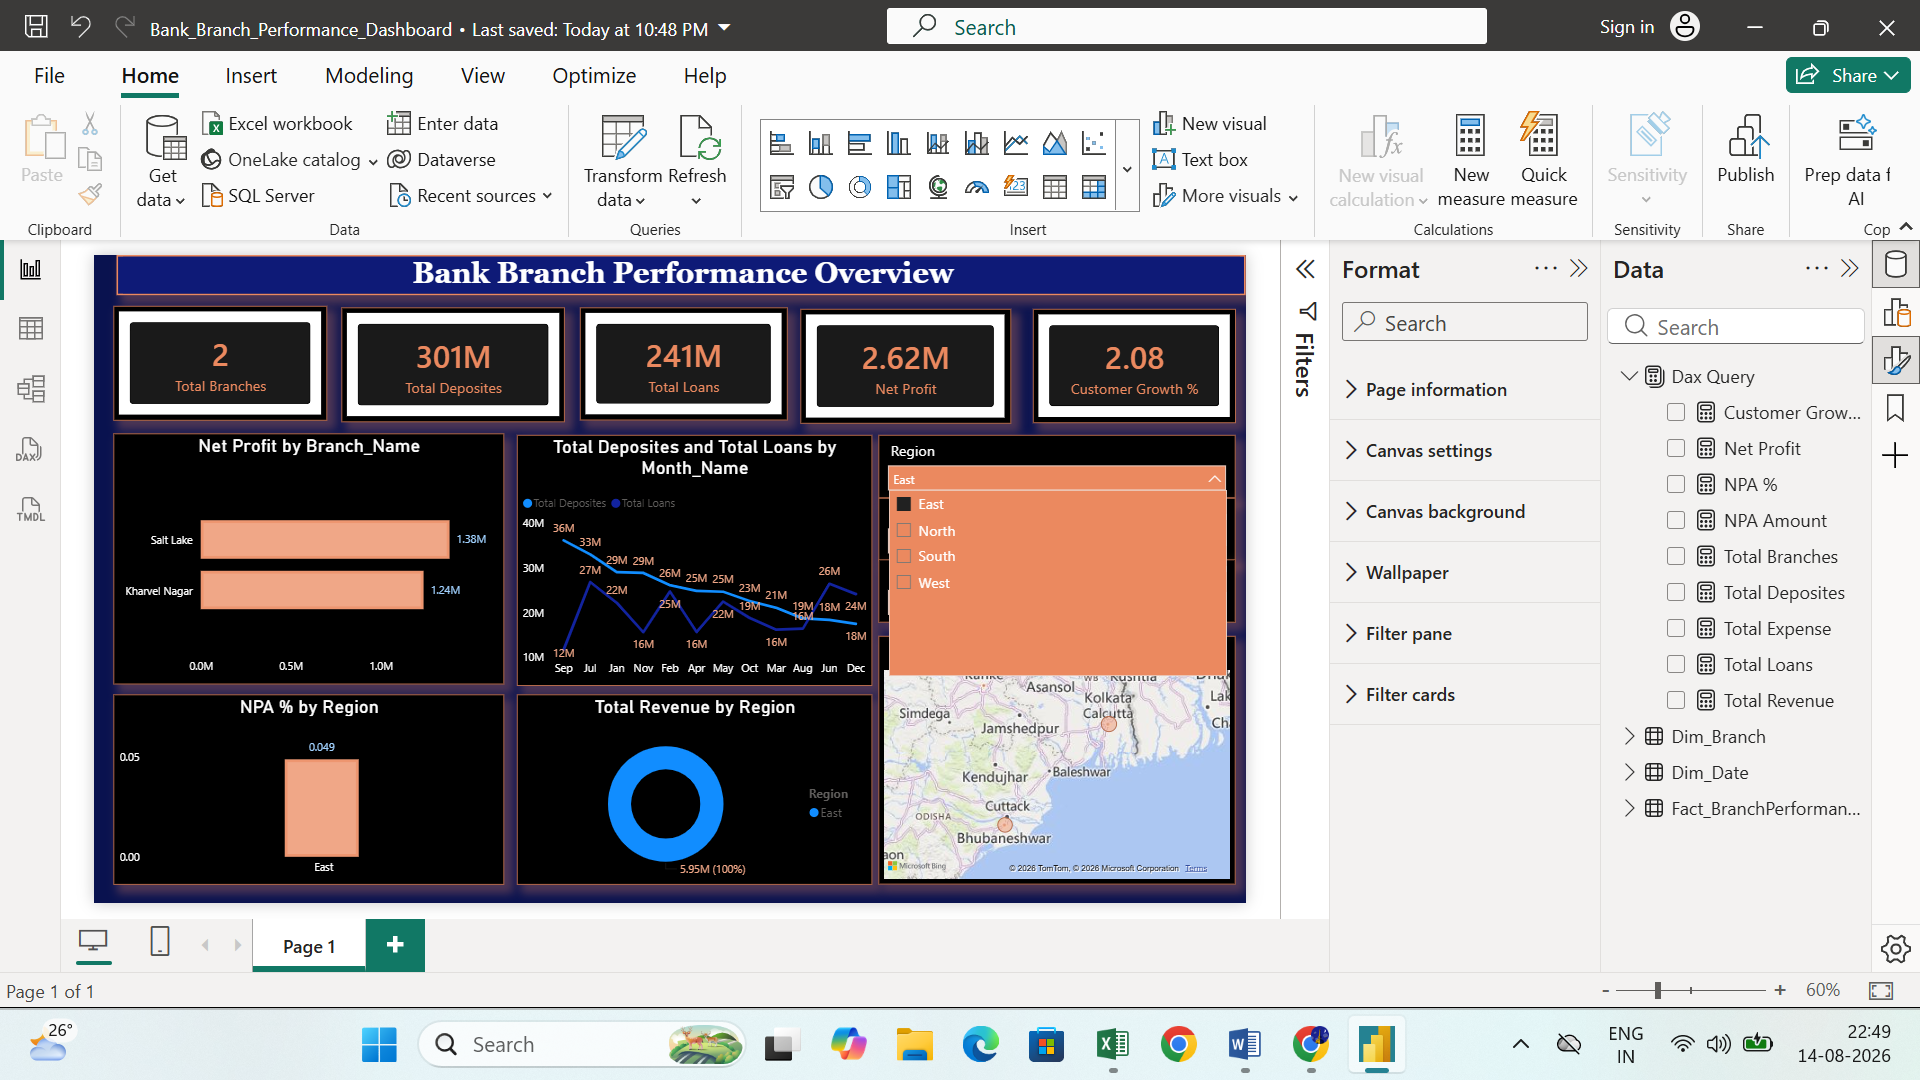

Layout of this report page (visuals, bound fields, positions):
{"tool":"powerbi","page":{"name":"Page 1","canvas":[1280,720],"ordinal":0},"visuals":[{"type":"textbox","title":"Bank Branch Performance Overview","box":[25.4,0,1255,44.5],"z":0},{"type":"cardVisual","fields":{"Data":["Dax Query.Total Branches"]},"box":[21.7,56.7,237,127.2],"z":1000},{"type":"cardVisual","fields":{"Data":["Dax Query.Total Loans"]},"box":[539.2,58.9,230.6,125.7],"z":2000},{"type":"cardVisual","fields":{"Data":["Dax Query.Net Profit"]},"box":[785.8,60.4,233.8,127.2],"z":3000},{"type":"cardVisual","fields":{"Data":["Dax Query.Customer Growth %"]},"box":[1043.3,60,225,126.7],"z":4000},{"type":"cardVisual","fields":{"Data":["Dax Query.Total Deposites"]},"box":[275.2,58.9,248.1,127.2],"z":5000},{"type":"clusteredBarChart","fields":{"Category":["Dim_Branch.Branch_Name"],"Y":["Dax Query.Net Profit"]},"box":[22.3,198.8,434.2,278.4],"z":6000},{"type":"lineChart","fields":{"Category":["Dim_Date.Month_Name"],"Y":["Dax Query.Total Deposites","Dax Query.Total Loans"]},"box":[469.2,200.4,394.5,278.4],"z":7000},{"type":"clusteredColumnChart","fields":{"Category":["Dim_Branch.Region"],"Y":["Dax Query.NPA %"]},"box":[22.3,488.3,434.2,211.6],"z":8000},{"type":"donutChart","fields":{"Category":["Dim_Branch.Region"],"Y":["Dax Query.Total Revenue"]},"box":[469.2,488.3,394.5,211.6],"z":9000},{"type":"map","fields":{"Category":["Dim_Branch.City"],"Size":["Dax Query.Net Profit"]},"box":[871,423.3,396.7,276],"z":10000},{"type":"slicer","fields":{"Values":["Dim_Branch.Region"]},"box":[871.7,200,396.7,70],"z":11000},{"type":"slicer","fields":{"Values":["Dim_Date.Month_Name"]},"box":[871.7,270,396.7,70],"z":12000},{"type":"slicer","fields":{"Values":["Dim_Branch.Branch_Name"]},"box":[871.7,338.3,396.7,70],"z":13000}]}

Visuals, with their boxes on the page's 1280x720 design canvas (x1, y1, x2, y2). These are canvas units, not pixel positions in the 1920x1080 screenshot, which may show the page scaled, cropped or inside an application window:
"Bank Branch Performance Overview" textbox: bbox(25, 0, 1280, 44)
cardVisual - Dax Query.Total Branches: bbox(22, 57, 259, 184)
cardVisual - Dax Query.Total Loans: bbox(539, 59, 770, 185)
cardVisual - Dax Query.Net Profit: bbox(786, 60, 1020, 188)
cardVisual - Dax Query.Customer Growth %: bbox(1043, 60, 1268, 187)
cardVisual - Dax Query.Total Deposites: bbox(275, 59, 523, 186)
clusteredBarChart - Dim_Branch.Branch_Name x Dax Query.Net Profit: bbox(22, 199, 456, 477)
lineChart - Dim_Date.Month_Name x Dax Query.Total Deposites: bbox(469, 200, 864, 479)
clusteredColumnChart - Dim_Branch.Region x Dax Query.NPA %: bbox(22, 488, 456, 700)
donutChart - Dim_Branch.Region x Dax Query.Total Revenue: bbox(469, 488, 864, 700)
map - Dim_Branch.City x Dax Query.Net Profit: bbox(871, 423, 1268, 699)
slicer - Dim_Branch.Region: bbox(872, 200, 1268, 270)
slicer - Dim_Date.Month_Name: bbox(872, 270, 1268, 340)
slicer - Dim_Branch.Branch_Name: bbox(872, 338, 1268, 408)
